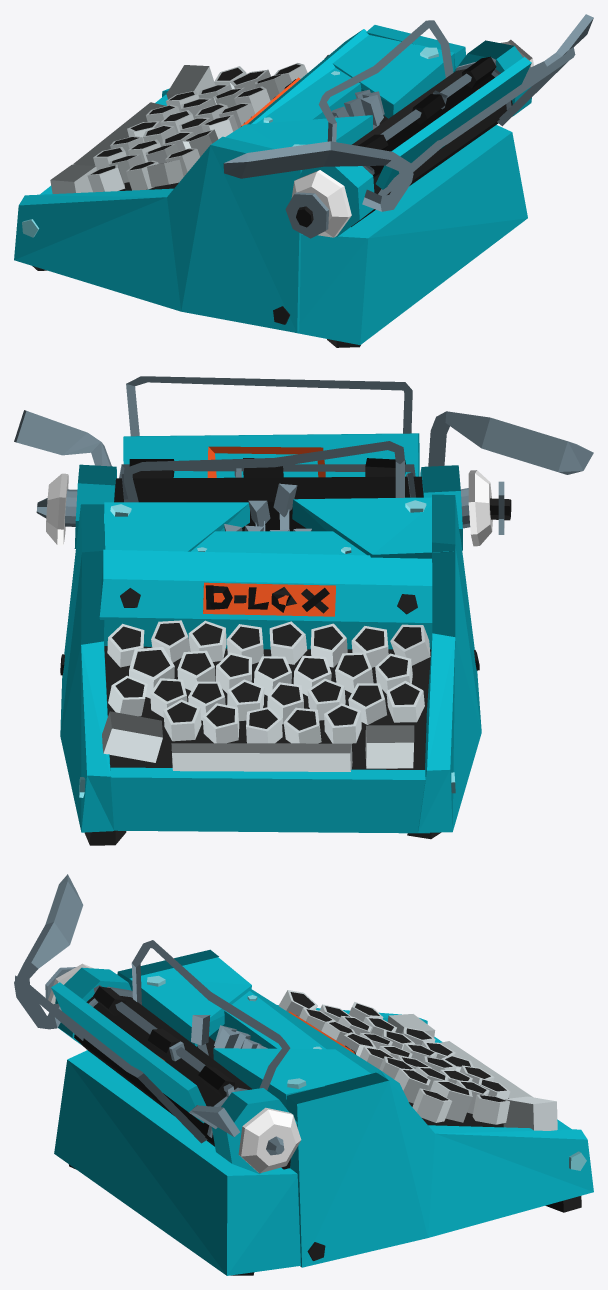
Rendered from Typewriter_original.glb.
3 renders of one model, top to bottom at view 1: azimuth 30°, elevation 25°; view 2: azimuth 150°, elevation 25°; view 3: azimuth 270°, elevation 25°, orthographic. The views are drawn at different scales.
Visible parts, largest first — view 1: Node; view 2: Node; view 3: Node.
Part boxes in pixels (left/top/right/bottom): Node: left=14, top=14, right=593, bottom=347; Node: left=14, top=376, right=593, bottom=845; Node: left=14, top=874, right=593, bottom=1275.
Bounding box in the file's own units: 0.563 × 0.2545 × 0.567.
